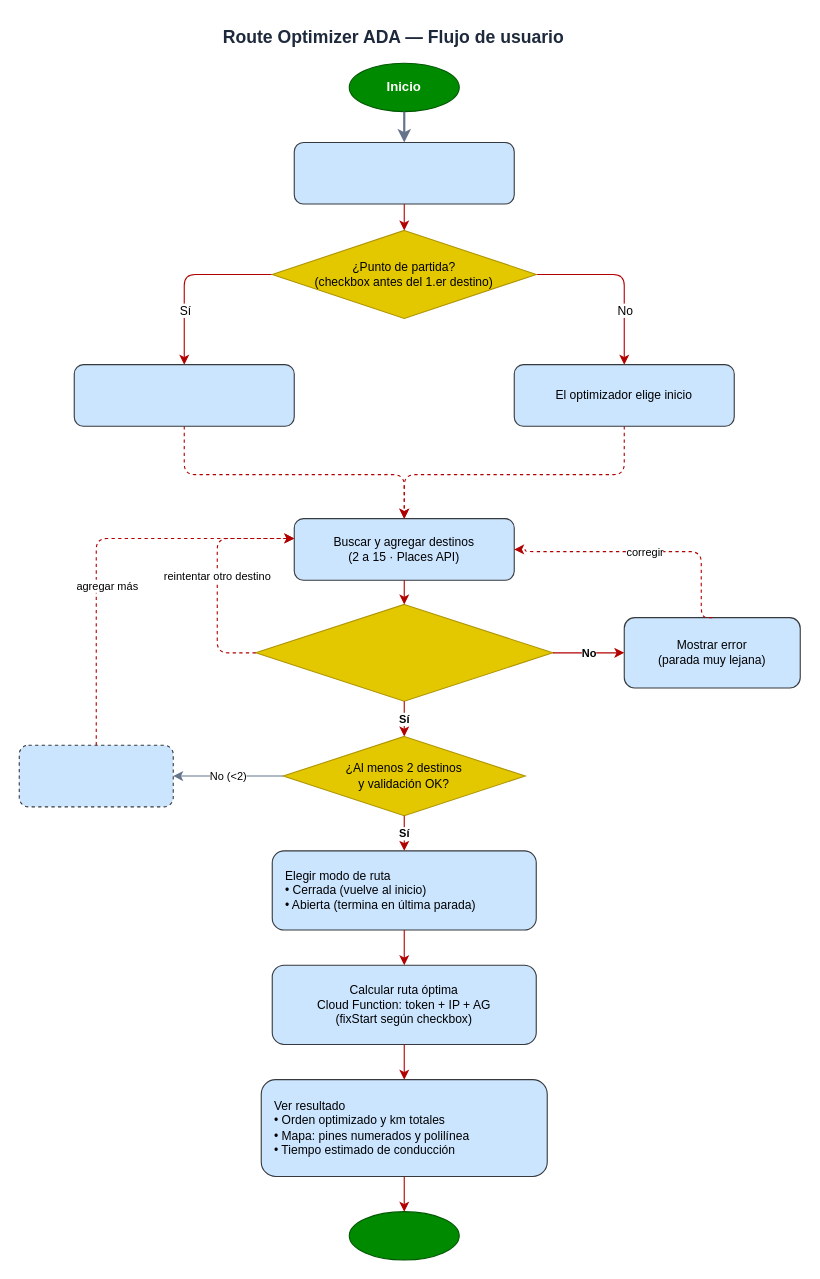
Image size: 820x1279. Some labels were removed from this diagram. The centre of each missing label's shape, as x and y in pixels:
"El 1.er destino es salida fija" belongs at (x=183, y=395).
"Fin" belongs at (x=403, y=1235).
"Iniciar sesión Firebase Authentication" belongs at (x=403, y=172).
"Seguir agregando o corregir lista" belongs at (x=95, y=775).
"¿Cada parada tiene otra a ≤ 100 km por carretera? (Distance Matrix vía función)" belongs at (x=404, y=652).
